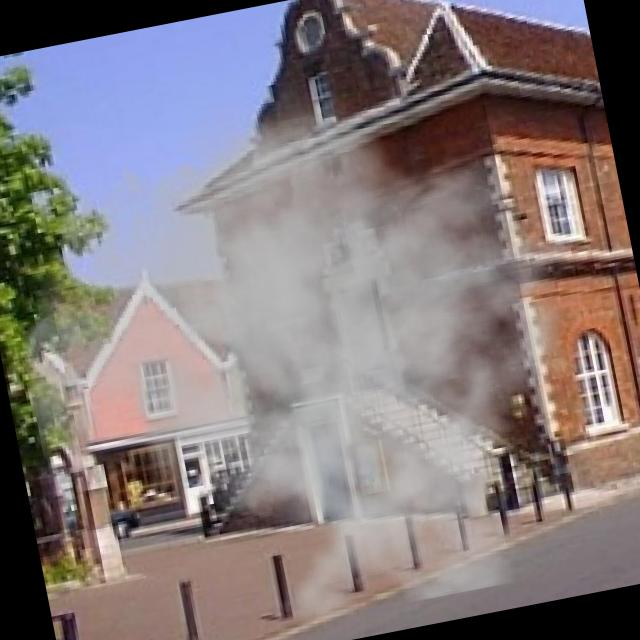Smoke: (0, 15, 631, 640)
